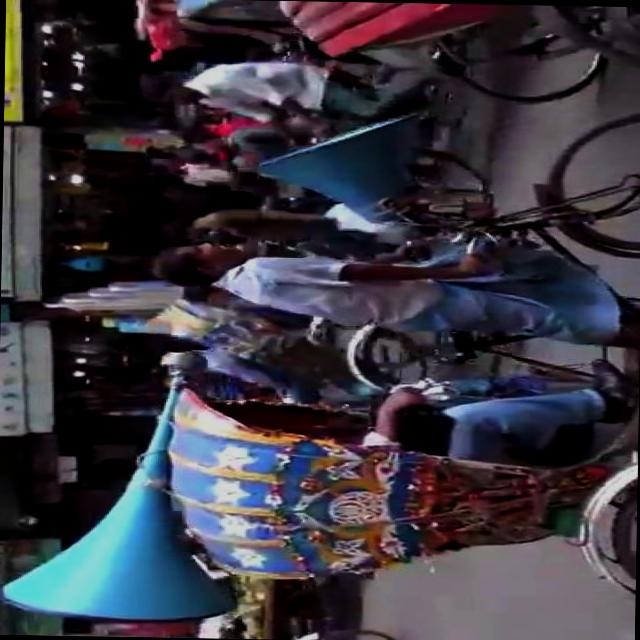motorcycle: (157, 99, 640, 590), (159, 0, 483, 225), (264, 0, 533, 61)
